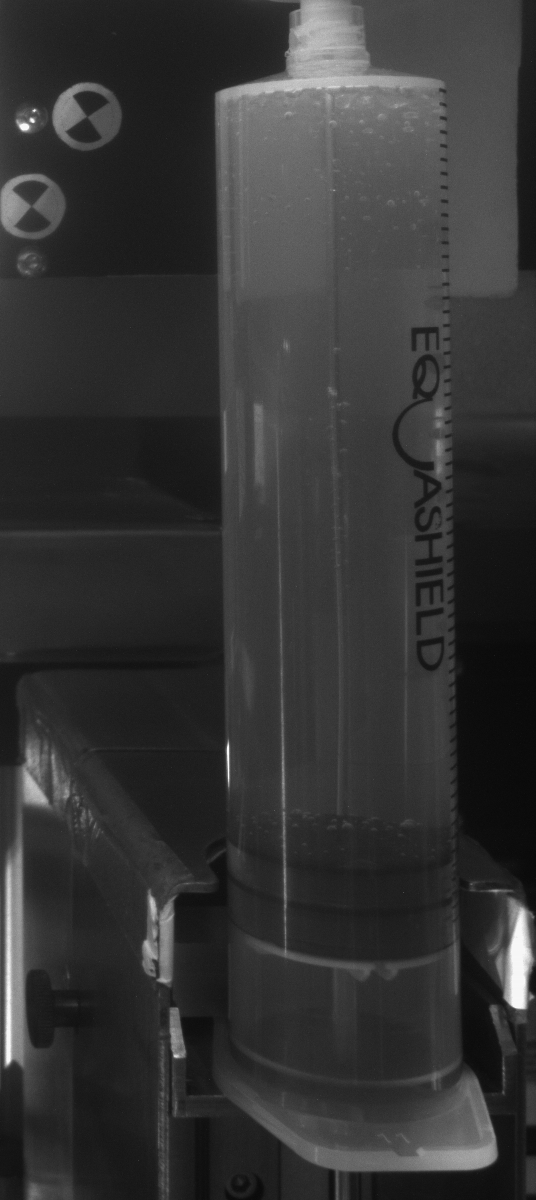piston: (227, 840, 461, 984)
